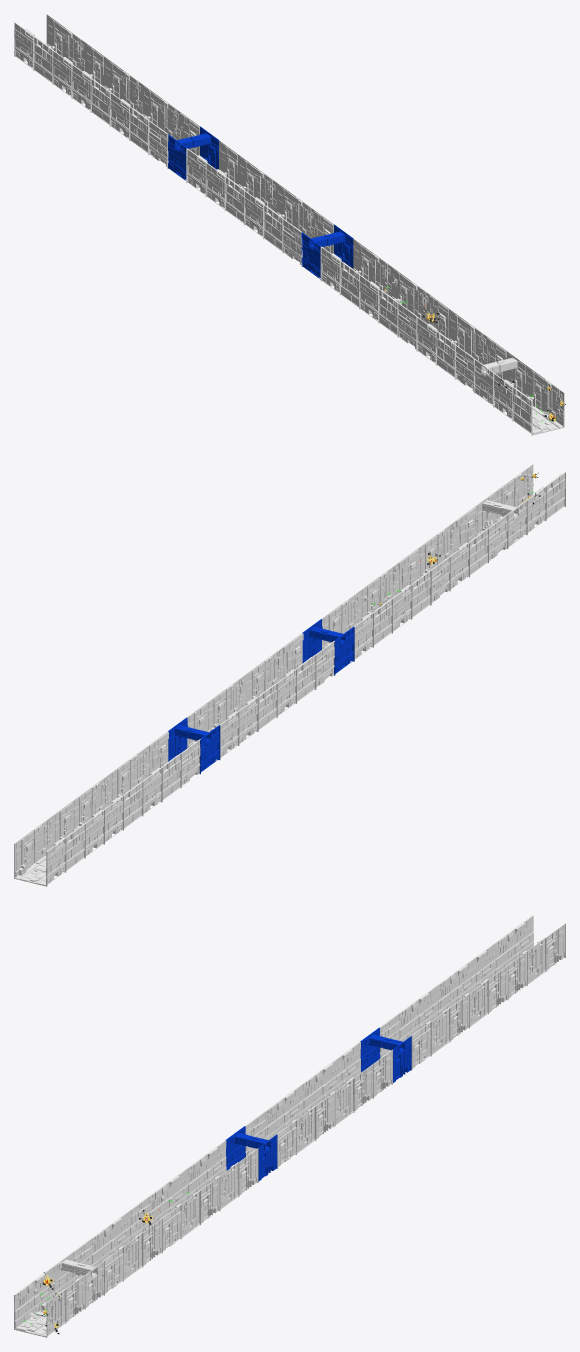
Rendered from prueba22.glb.
The picture shows the model from 3 angles, top to bottom: view 1: azimuth 30°, elevation 25°; view 2: azimuth 150°, elevation 25°; view 3: azimuth 330°, elevation 25°; orthographic projection.
Parts seen in each view (by area): view 1: trench_1, trench_3.002, trench_3.003, trench_3.000, trench_2.004, trench_1.004, trench_1.008, trench_1.003, trench_1.007, trench_2.001, trench_1.001, trench_2.002 (+15 smaller); view 2: trench_2.014, trench_3.000, trench_3.003, trench_3.002, trench_1.012, trench_2.006, trench_1.008, trench_1.004, trench_2.000, trench_4.005, trench_1.001, trench_2.008 (+15 smaller); view 3: trench_1, trench_3.003, trench_3.002, trench_3.000, trench_1.008, trench_2.004, trench_1.007, trench_1.004, trench_2.001, trench_1.012, trench_1.001, trench_1.003 (+15 smaller).
Boxes of the visible parts, x1=… form: trench_1: x1=512, y1=379, x2=564, y2=435; trench_3.002: x1=474, y1=351, x2=525, y2=407; trench_3.003: x1=301, y1=224, x2=353, y2=279; trench_3.000: x1=167, y1=126, x2=219, y2=180; trench_2.004: x1=493, y1=365, x2=544, y2=421; trench_1.004: x1=435, y1=323, x2=487, y2=379; trench_1.008: x1=339, y1=252, x2=391, y2=309; trench_1.003: x1=129, y1=98, x2=180, y2=154; trench_1.007: x1=263, y1=196, x2=314, y2=253; trench_2.001: x1=71, y1=56, x2=123, y2=112; trench_1.001: x1=224, y1=168, x2=276, y2=223; trench_2.002: x1=186, y1=140, x2=238, y2=194; trench_2.014: x1=14, y1=830, x2=66, y2=886; trench_3.000: x1=168, y1=717, x2=220, y2=774; trench_3.003: x1=302, y1=619, x2=354, y2=675; trench_3.002: x1=475, y1=492, x2=527, y2=546; trench_1.012: x1=33, y1=816, x2=85, y2=872; trench_2.006: x1=360, y1=576, x2=412, y2=633; trench_1.008: x1=341, y1=591, x2=392, y2=647; trench_1.004: x1=437, y1=520, x2=488, y2=577; trench_2.000: x1=206, y1=689, x2=258, y2=743; trench_4.005: x1=398, y1=548, x2=450, y2=605; trench_1.001: x1=225, y1=675, x2=277, y2=731; trench_2.008: x1=245, y1=661, x2=296, y2=715; trench_1: x1=14, y1=1281, x2=65, y2=1337; trench_3.003: x1=225, y1=1126, x2=277, y2=1181; trench_3.002: x1=52, y1=1252, x2=104, y2=1309; trench_3.000: x1=360, y1=1027, x2=411, y2=1082; trench_1.008: x1=187, y1=1154, x2=239, y2=1210; trench_2.004: x1=33, y1=1267, x2=85, y2=1323; trench_1.007: x1=264, y1=1098, x2=316, y2=1154; trench_1.004: x1=91, y1=1224, x2=143, y2=1281; trench_2.001: x1=456, y1=957, x2=508, y2=1014; trench_1.012: x1=494, y1=929, x2=546, y2=984; trench_1.001: x1=302, y1=1070, x2=354, y2=1125; trench_1.003: x1=398, y1=999, x2=450, y2=1056.
Bounding box in the file's own units: 13.98 × 13.95 × 343.
Materials: 30 (1 with a texture image).
